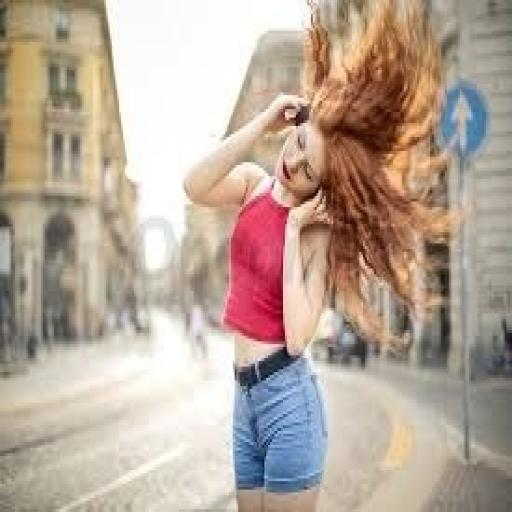listening_to_music: (180, 0, 460, 509)
